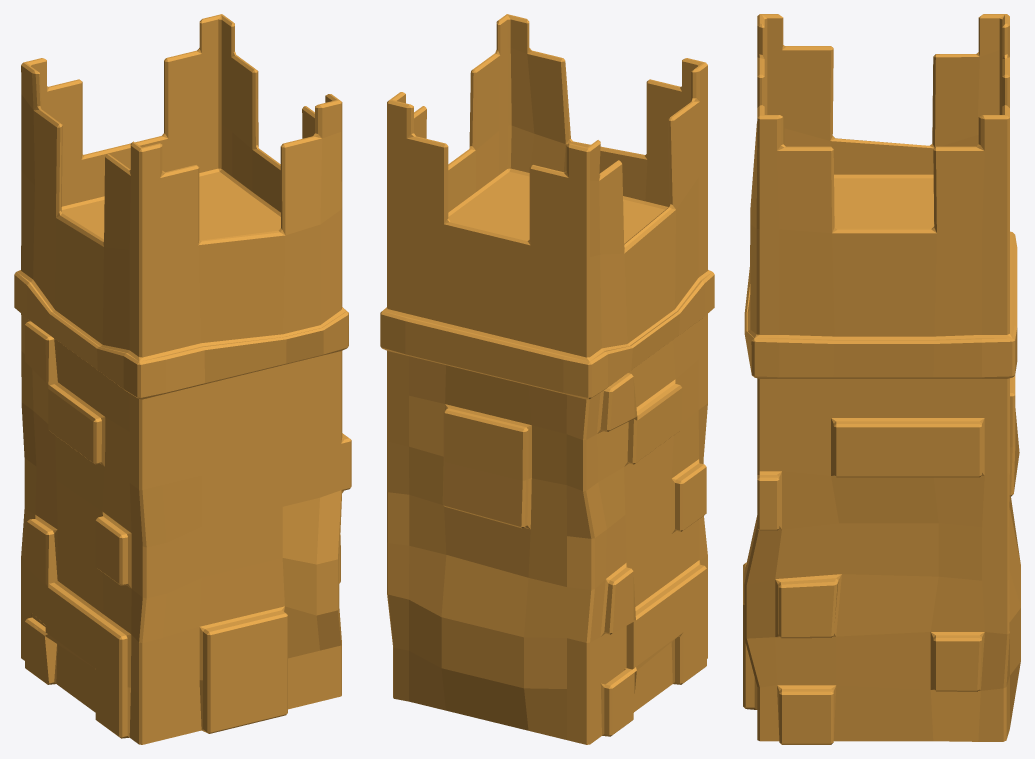
File: SM_Castles_Tower1.fbx
The picture shows the model from 3 angles, left to right: view 1: azimuth 30°, elevation 25°; view 2: azimuth 150°, elevation 25°; view 3: azimuth 270°, elevation 25°; orthographic projection. The views are drawn at different scales.
Parts seen in each view (by area): view 1: Castle_Tower1; view 2: Castle_Tower1; view 3: Castle_Tower1.
Part boxes in pixels (box(x1,y1,x2,y2)): Castle_Tower1: box(14, 14, 351, 744); Castle_Tower1: box(380, 14, 714, 744); Castle_Tower1: box(743, 14, 1020, 744).
Bounding box in the file's own units: 329 × 839 × 337.
